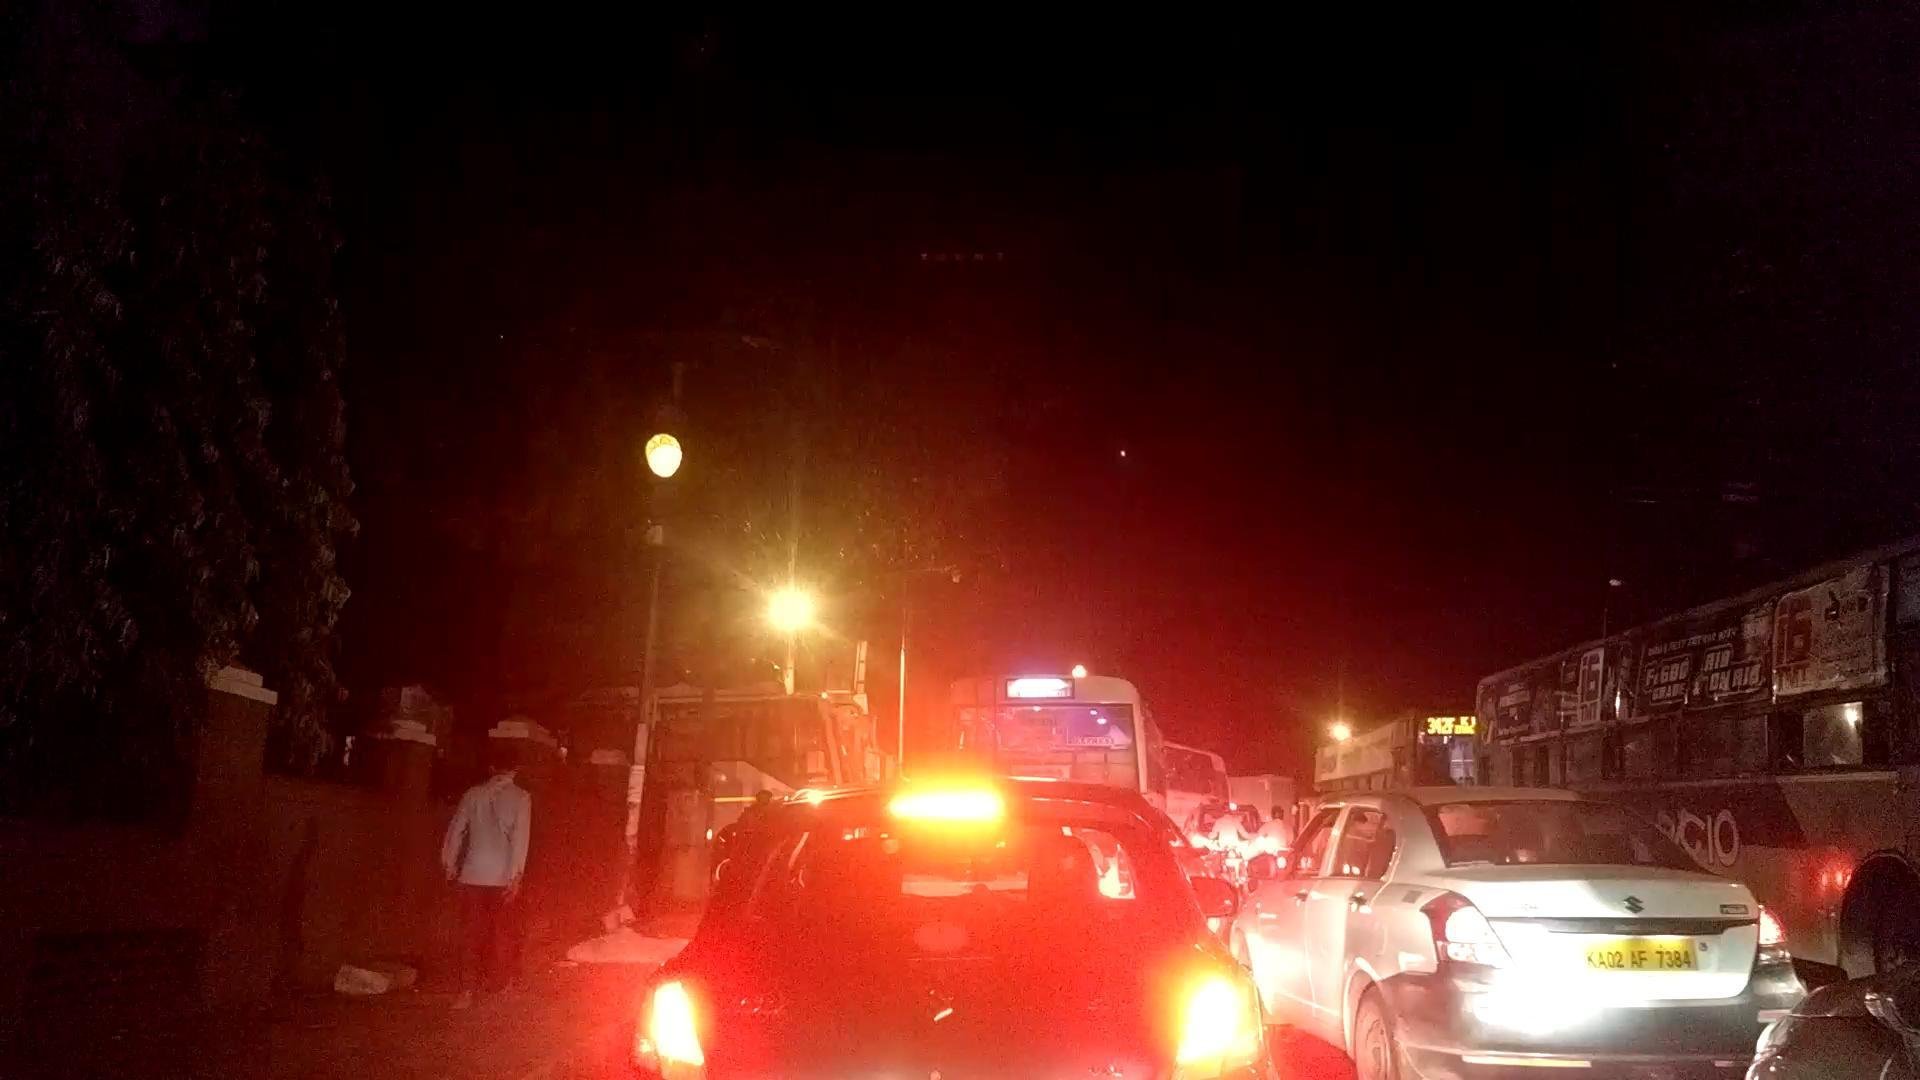on: (419, 291, 1127, 771)
